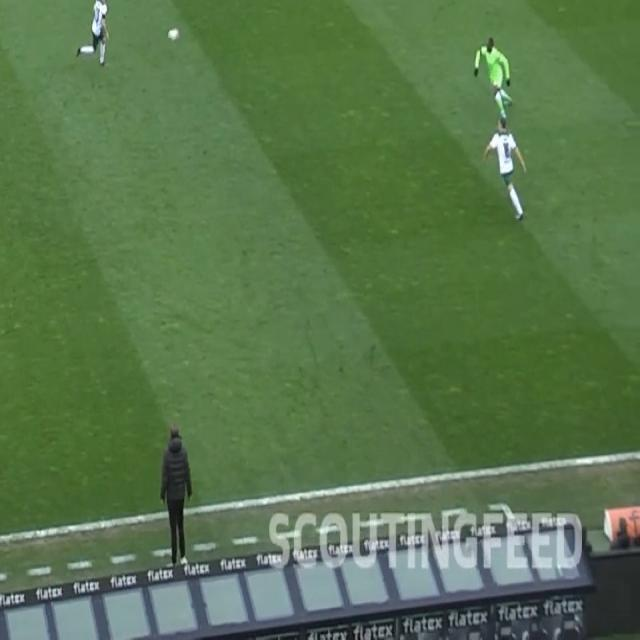ball: (167, 26, 181, 43)
